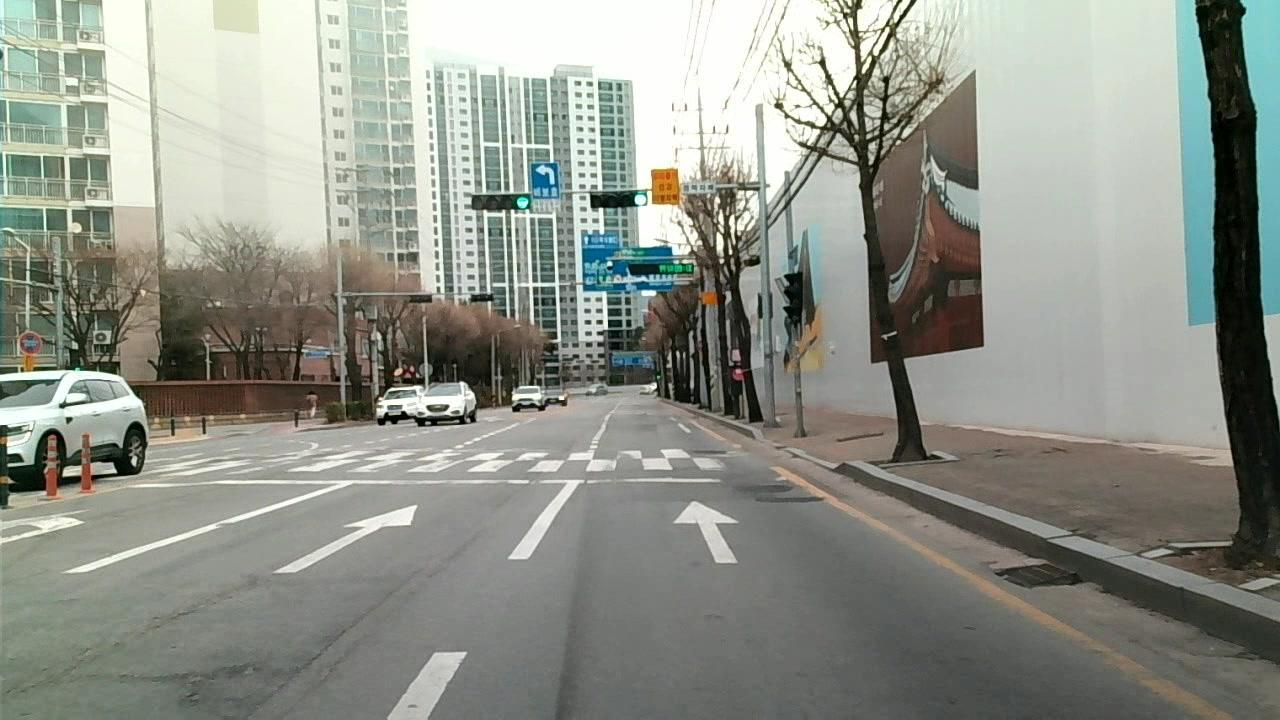banner: (242, 612, 363, 720), (66, 665, 215, 700), (144, 584, 248, 632)
